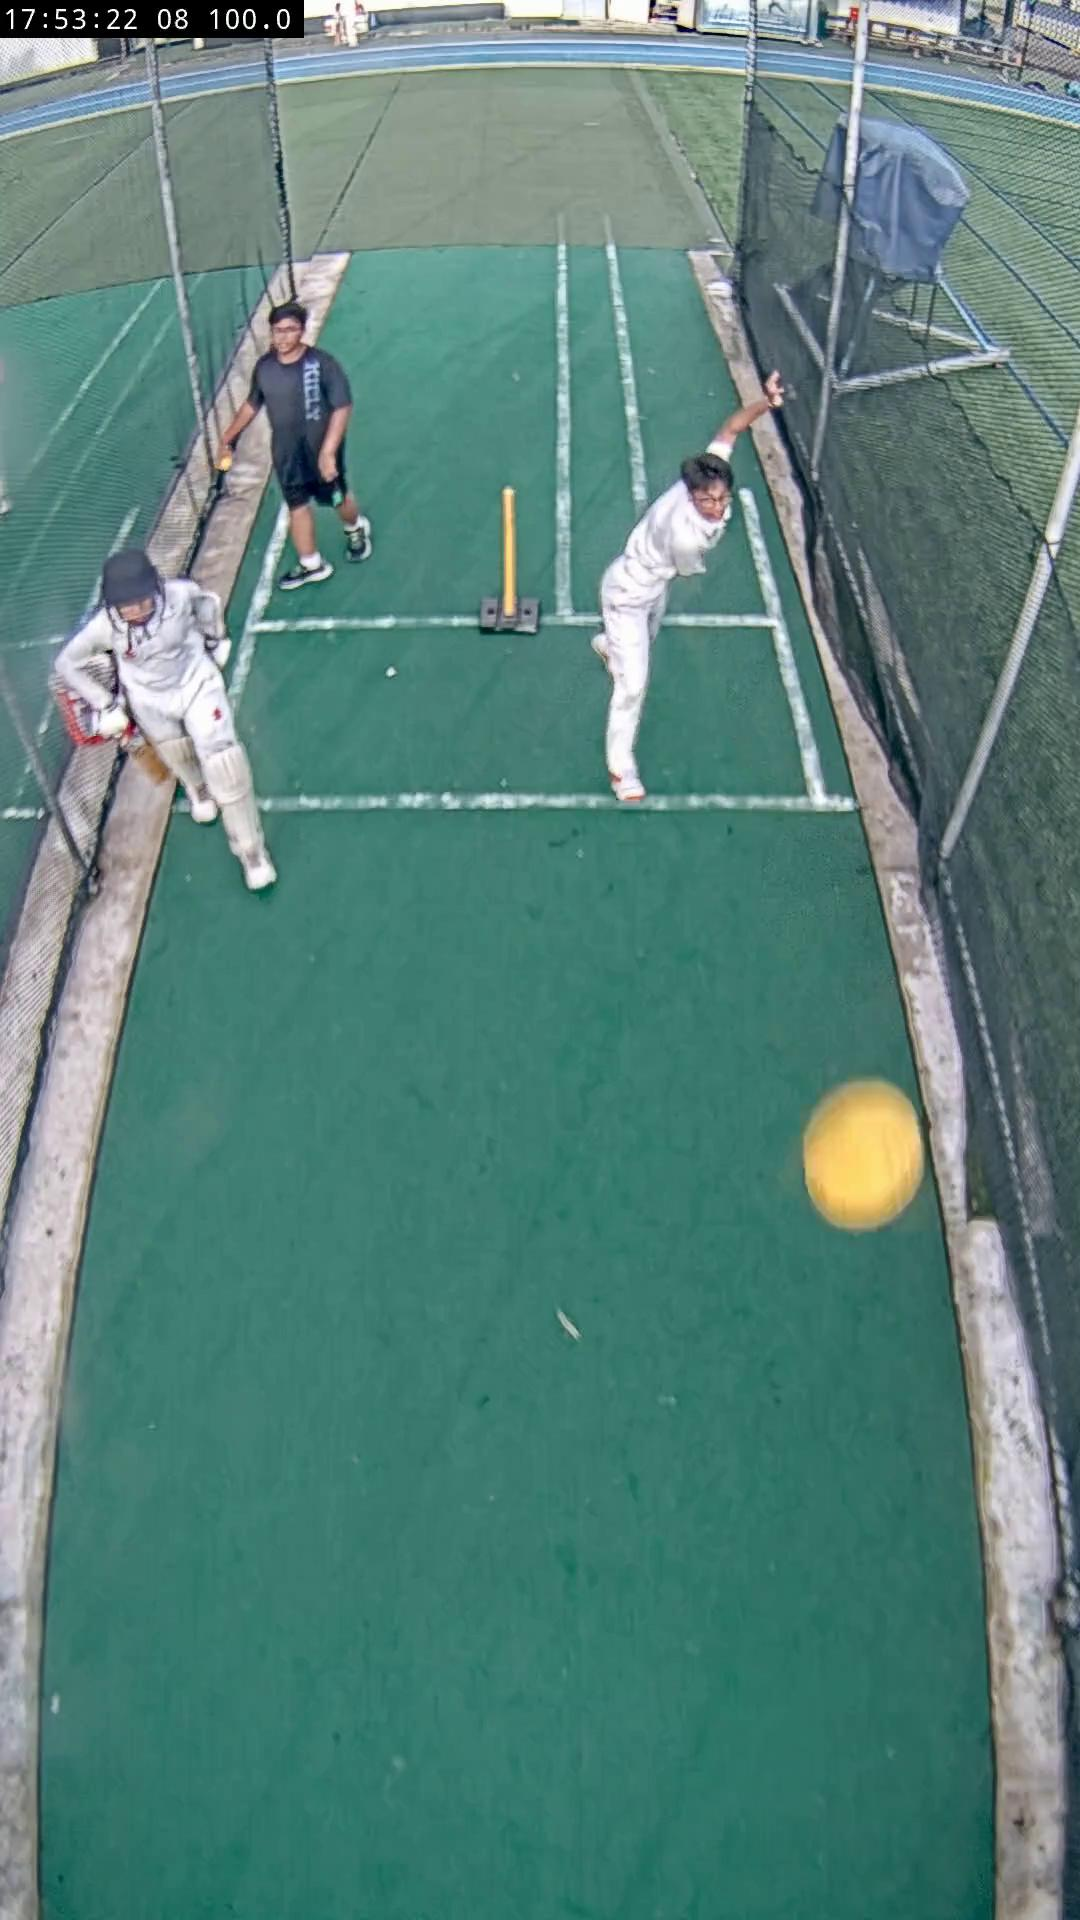ball: (803, 1080, 923, 1230)
stumps: (480, 488, 541, 634)
